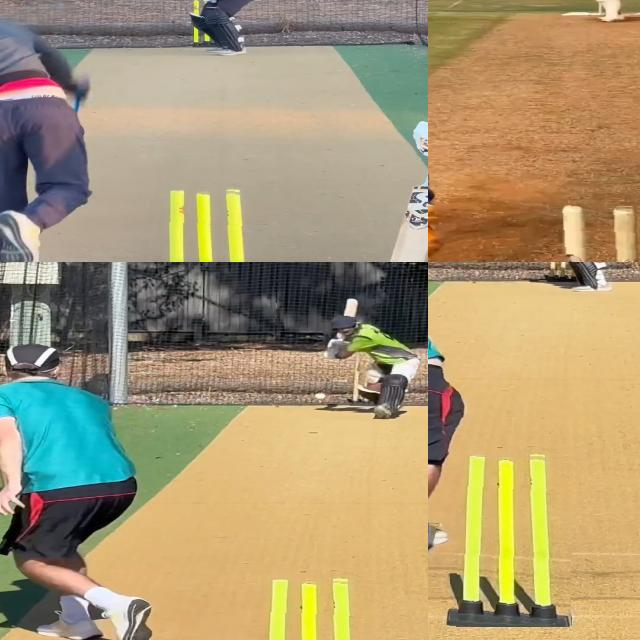Cricket ball: (315, 392, 329, 401)
Stumps: (450, 451, 573, 627), (247, 576, 377, 640), (159, 187, 262, 262), (194, 0, 220, 47)
